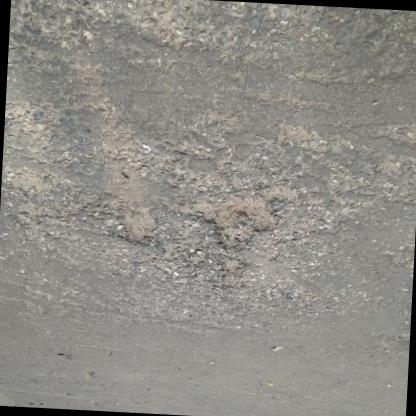pothole: (192, 196, 284, 254), (120, 206, 162, 246)
